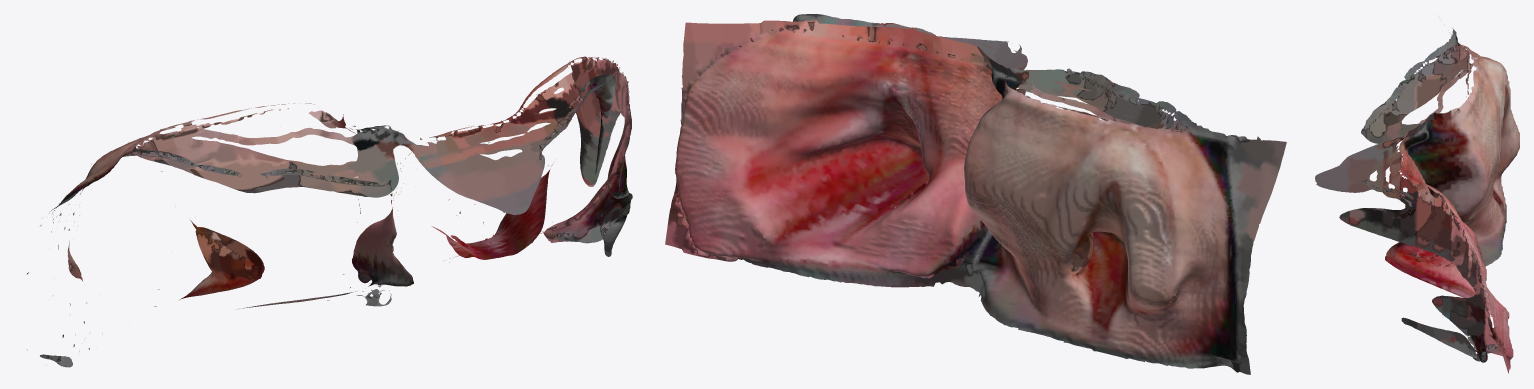
Rendered from lesion (1).gltf.
3 views of the same model, side by side, from view 1: azimuth 30°, elevation 25°; view 2: azimuth 150°, elevation 25°; view 3: azimuth 270°, elevation 25° (orthographic). The views are drawn at different scales.
Size of the model in its own units: 0.00146 by 0.00052 by 0.000607.
